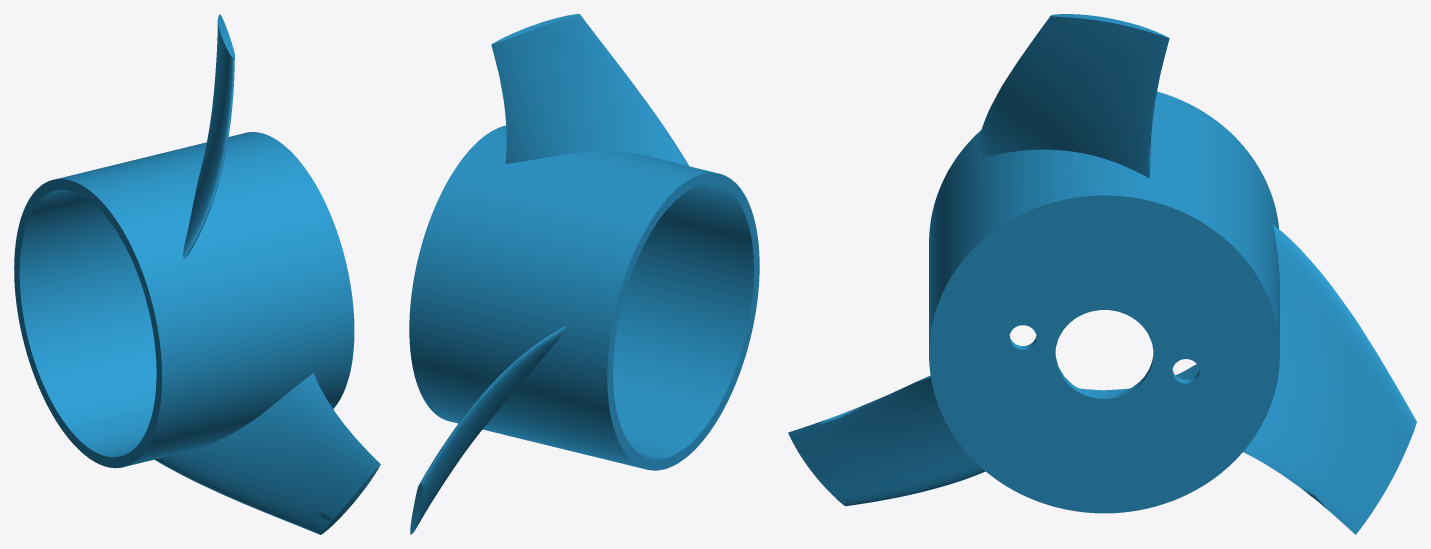
File: propcw.obj
The picture shows the model from 3 angles, left to right: view 1: azimuth 30°, elevation 25°; view 2: azimuth 150°, elevation 25°; view 3: azimuth 270°, elevation 25°; orthographic projection. The views are drawn at different scales.
Parts seen in each view (by area): view 1: PropCW_ID164.001; view 2: PropCW_ID164.001; view 3: PropCW_ID164.001.
Boxes of the visible parts, x1,y1,x2,y2 form: PropCW_ID164.001: (14,14,380,534); PropCW_ID164.001: (409,14,759,534); PropCW_ID164.001: (788,14,1416,534).
Size of the model in its own units: 0.03 by 0.0632 by 0.0717.
